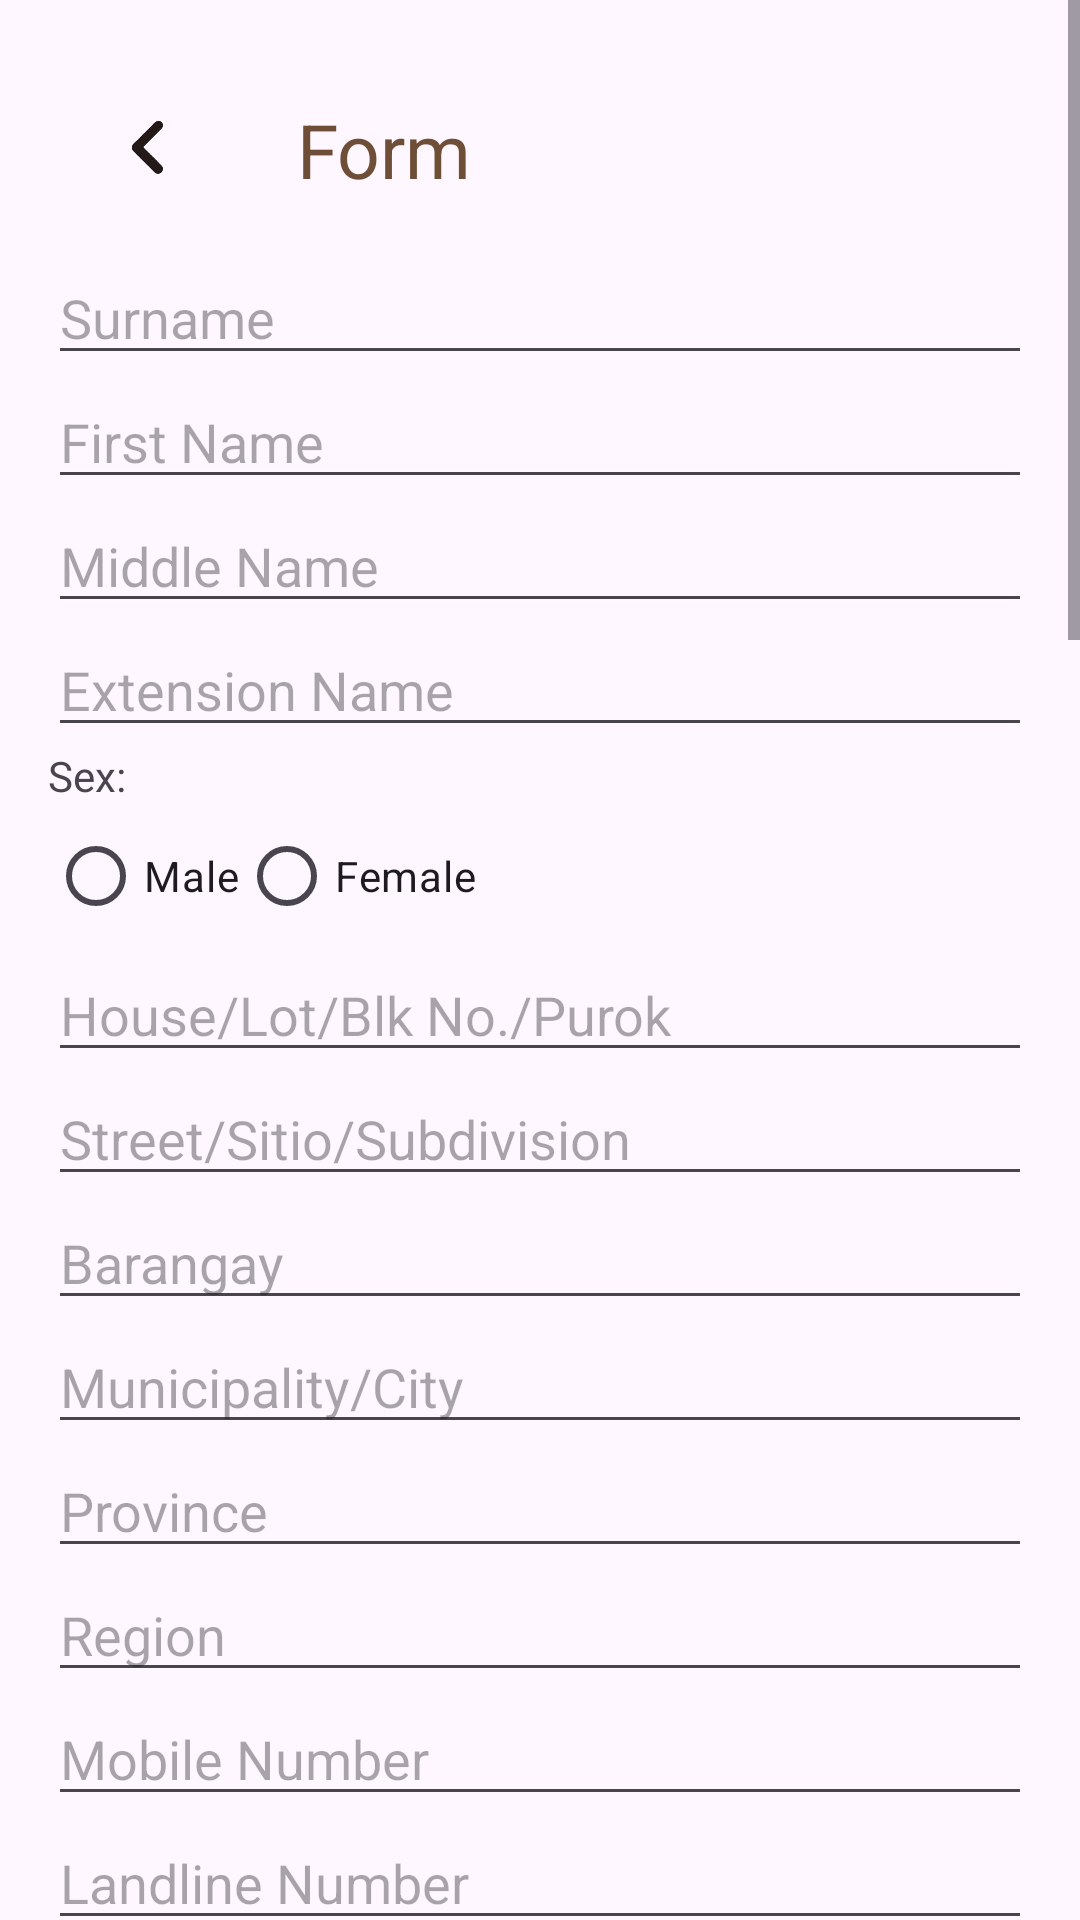

Icon bounding boxes for this 1080 x 1920 phone screenshot, format (x1, y1, x2, y2):
back: (132, 121, 163, 174)
